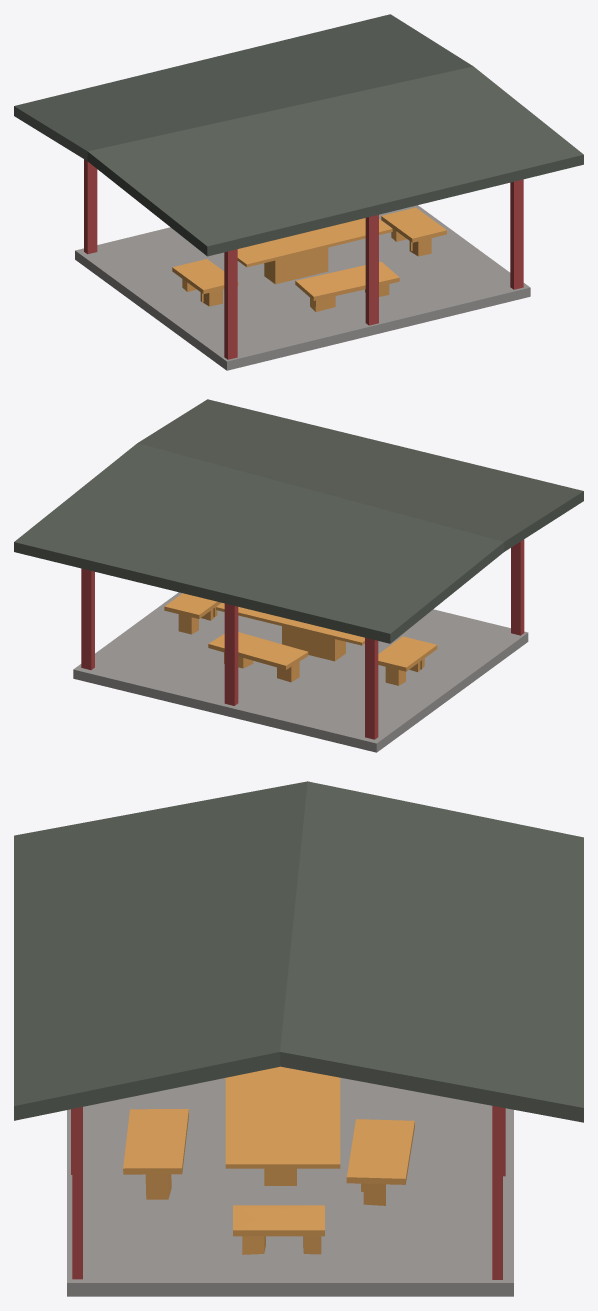
The model's file is Bsed_Shed_uli_FIN.glb.
The picture shows the model from 3 angles, top to bottom: view 1: azimuth 30°, elevation 25°; view 2: azimuth 150°, elevation 25°; view 3: azimuth 270°, elevation 25°; orthographic projection. The views are drawn at different scales.
Visible parts, largest first — view 1: Cube.007, Cube, Cube.009, Cube.013, Cube.010, Cube.011, Cube.008, Cube.003, Cube.001, Cube.002, Cube.006; view 2: Cube.007, Cube, Cube.012, Cube.011, Cube.004, Cube.006, Cube.005, Cube.010, Cube.008, Cube.001, Cube.009; view 3: Cube.007, Cube, Cube.009, Cube.013, Cube.012, Cube.010, Cube.005, Cube.002.
Boxes of the visible parts, box(x1,y1,x2,y2) form: Cube.007: box(14, 14, 583, 256); Cube: box(75, 205, 530, 370); Cube.009: box(237, 218, 392, 267); Cube.013: box(295, 261, 399, 311); Cube.010: box(381, 207, 446, 256); Cube.011: box(172, 259, 238, 306); Cube.008: box(264, 247, 328, 284); Cube.003: box(365, 214, 378, 325); Cube.001: box(224, 249, 237, 359); Cube.002: box(510, 179, 523, 289); Cube.006: box(84, 159, 97, 254); Cube.007: box(14, 399, 583, 643); Cube: box(73, 592, 528, 752); Cube.012: box(208, 632, 308, 682); Cube.011: box(378, 636, 437, 685); Cube.004: box(224, 603, 238, 705); Cube.006: box(365, 637, 378, 739); Cube.005: box(81, 568, 94, 669); Cube.010: box(164, 593, 220, 634); Cube.008: box(282, 626, 345, 661); Cube.001: box(511, 539, 524, 635); Cube.009: box(216, 603, 364, 645); Cube.007: box(14, 781, 583, 1122); Cube: box(67, 1077, 513, 1296); Cube.009: box(225, 1066, 340, 1168); Cube.013: box(123, 1109, 188, 1199); Cube.012: box(346, 1119, 414, 1205); Cube.010: box(233, 1205, 324, 1254); Cube.005: box(492, 1106, 502, 1279); Cube.002: box(72, 1107, 82, 1279).
Bounding box in the file's own units: 10.77 × 4.5 × 9.1.
